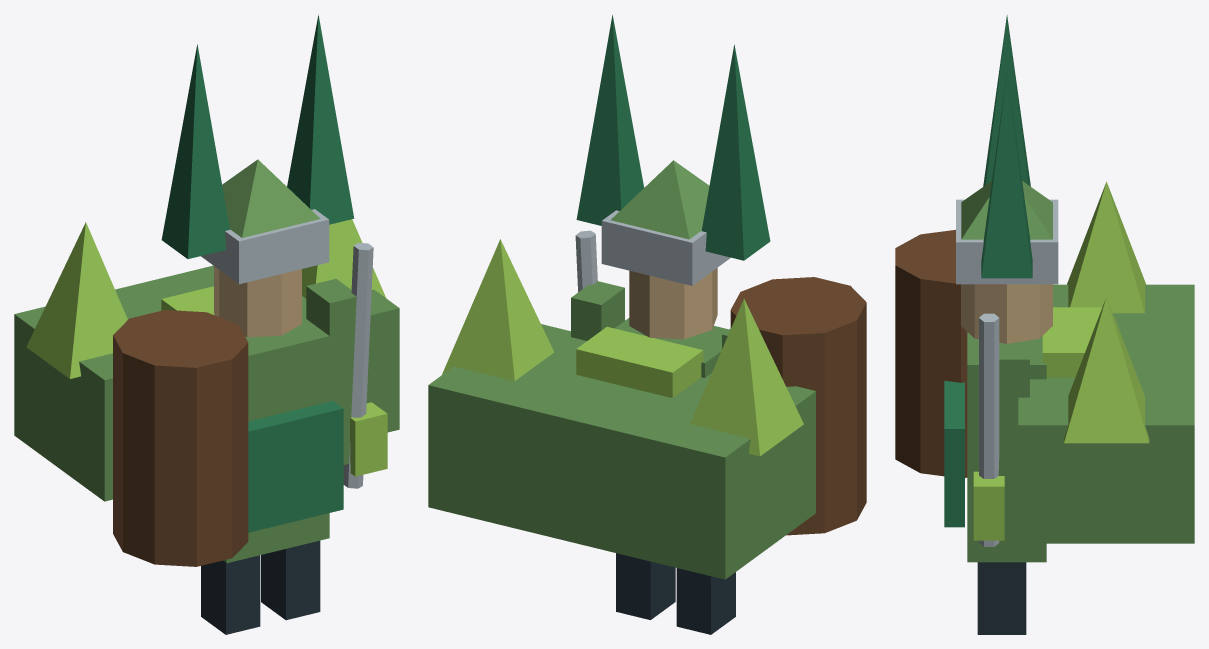
Rendered from heavy-mobile.obj.
The picture shows the model from 3 angles, left to right: view 1: azimuth 30°, elevation 25°; view 2: azimuth 150°, elevation 25°; view 3: azimuth 270°, elevation 25°; orthographic projection. The views are drawn at different scales.
Parts seen in each view (by area): view 1: infantry; view 2: infantry; view 3: infantry.
Part boxes in pixels (x1=…): infantry: x1=14, y1=14, x2=399, y2=634; infantry: x1=428, y1=15, x2=866, y2=634; infantry: x1=895, y1=15, x2=1194, y2=634.
Size of the model in its own units: 1.26 by 2.21 by 1.05.
